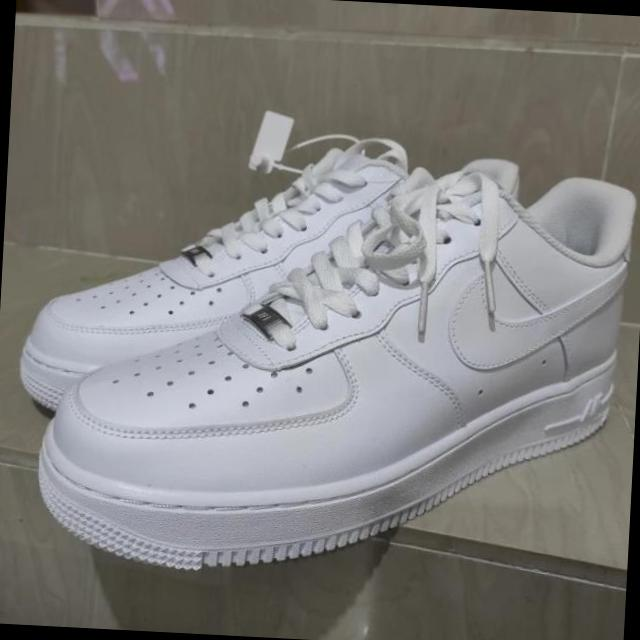nike_original_airforce: (28, 135, 640, 600), (18, 126, 526, 438)
